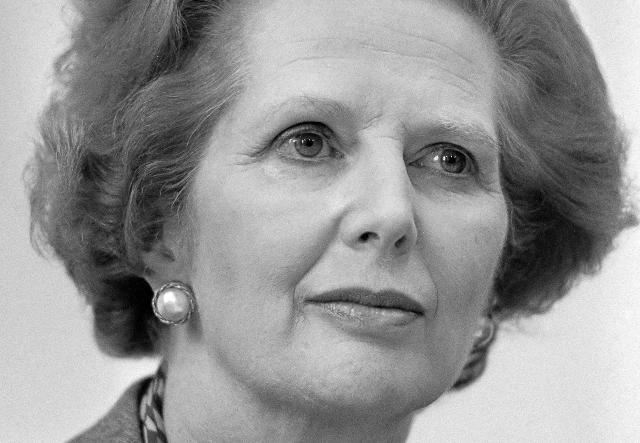crows_feet: (235, 144, 267, 174), (480, 177, 500, 201)
forehead: (280, 39, 340, 75), (369, 41, 426, 67), (437, 68, 485, 98), (439, 38, 467, 61)
frown_line: (361, 109, 384, 131), (396, 116, 410, 134)
gummy_smile: (294, 242, 324, 294), (421, 262, 447, 312)
